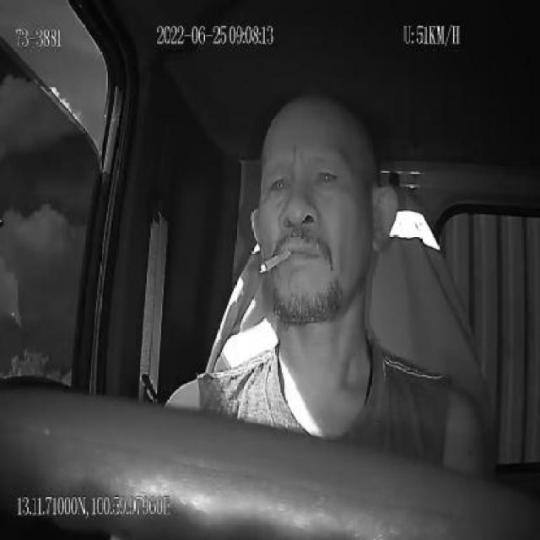smoking: (260, 248, 290, 276)
